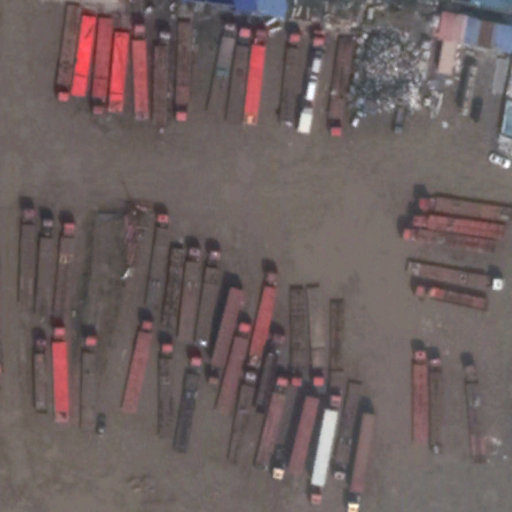msw: (352, 29, 429, 122)
